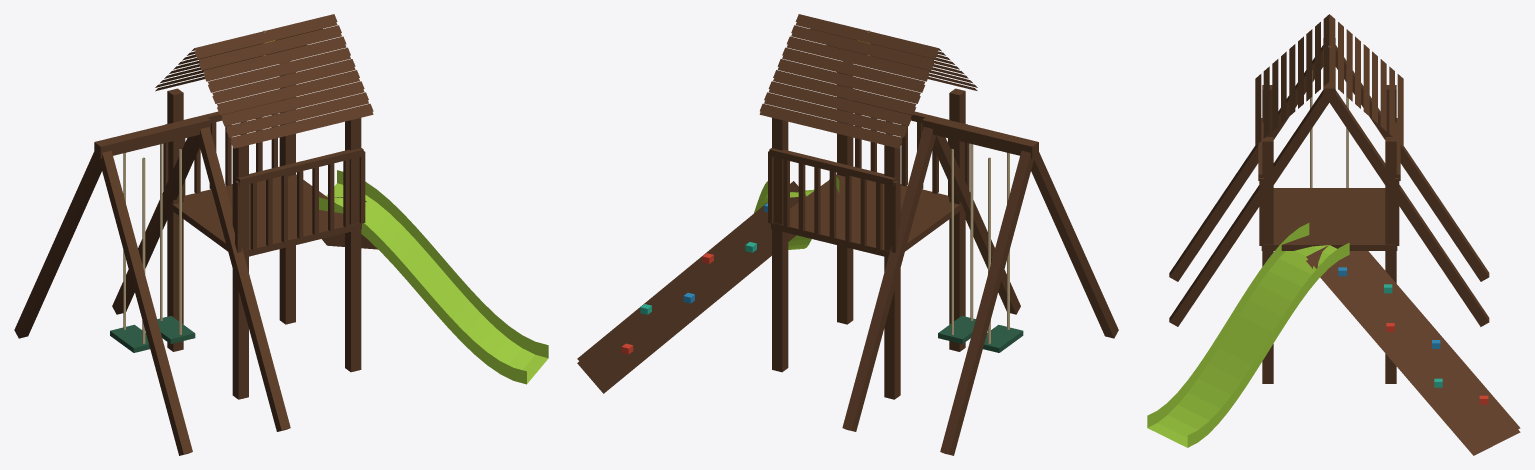
3 views of the same model, side by side, from view 1: azimuth 30°, elevation 25°; view 2: azimuth 150°, elevation 25°; view 3: azimuth 270°, elevation 25° (orthographic). The views are drawn at different scales.
Parts seen in each view (by area): view 1: SW-T210; view 2: SW-T210; view 3: SW-T210.
Part boxes in pixels (bbox=[...]): SW-T210: bbox=[14, 14, 548, 455]; SW-T210: bbox=[577, 14, 1118, 455]; SW-T210: bbox=[1147, 14, 1520, 455].
Bounding box in the file's own units: 3.65 × 3 × 3.27.
